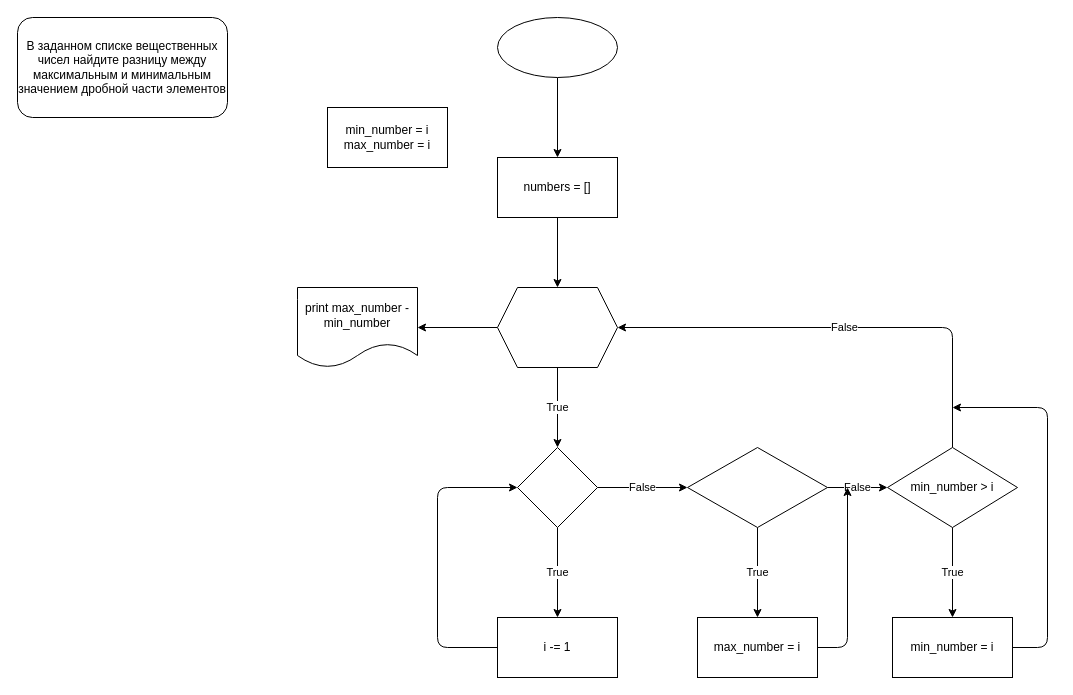
Image size: 1073x695. Some labels were removed from this diagram. The centre of each missing label's shape, as x and y in pixels:
"i < numbers.Length" belongs at pixel 557 327.
"i > 1" belongs at pixel 557 487.
"max_number < i" belongs at pixel 757 487.
"Start" belongs at pixel 557 47.
